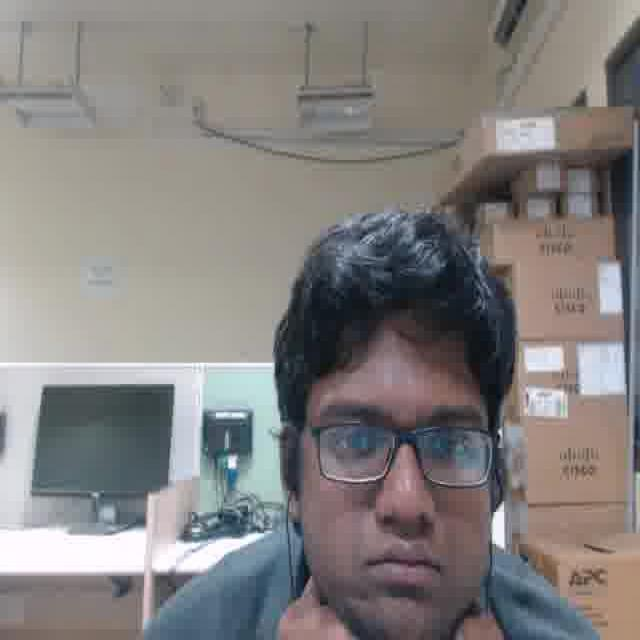Engaged: (301, 320, 490, 639)
